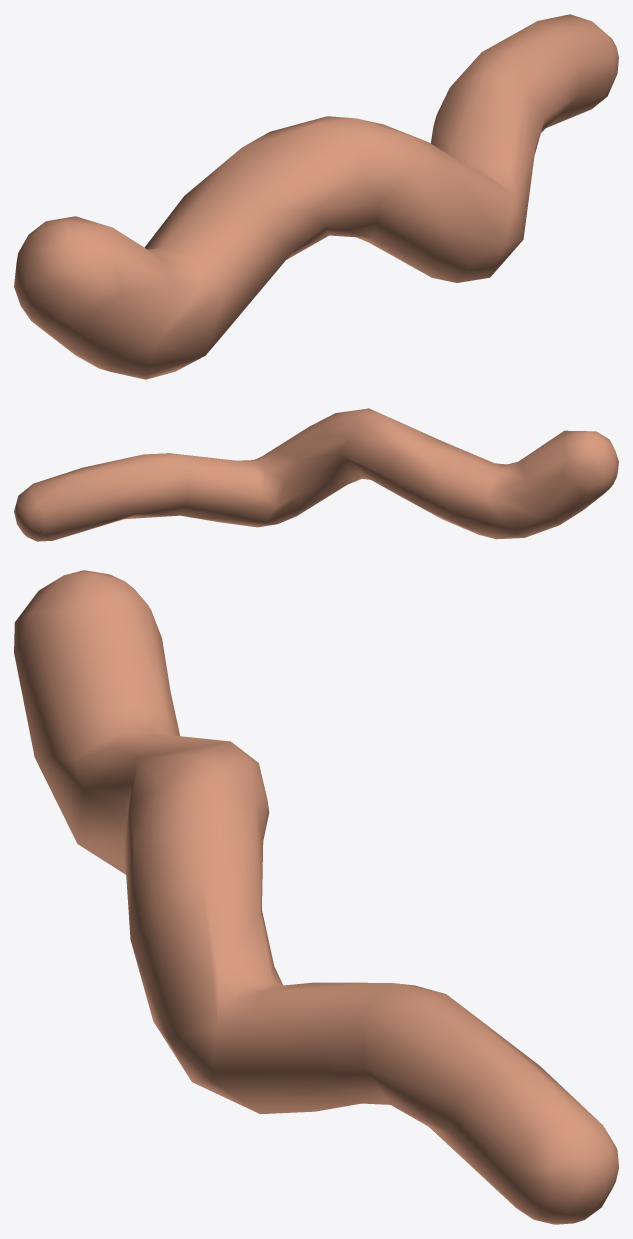
Rendered from vermiform-appendix.glb.
3 renders of one model, top to bottom at view 1: azimuth 30°, elevation 25°; view 2: azimuth 150°, elevation 25°; view 3: azimuth 270°, elevation 25°, orthographic. The views are drawn at different scales.
Visible parts, largest first — view 1: Vermiform appendix; view 2: Vermiform appendix; view 3: Vermiform appendix.
Part boxes in pixels (x1,y1,x2,y2): Vermiform appendix: (14, 14, 618, 379); Vermiform appendix: (14, 408, 618, 541); Vermiform appendix: (14, 570, 618, 1224).
Bounding box in the file's own units: 0.0696 × 0.0181 × 0.039.
